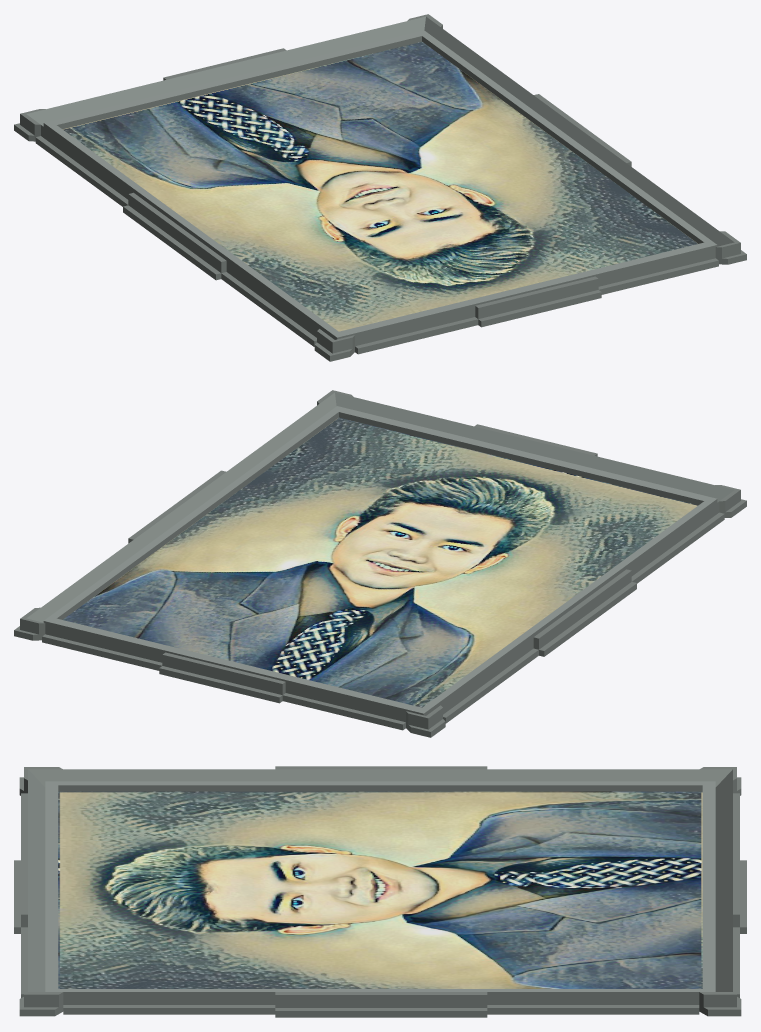
The model's file is Frame.glb.
The picture shows the model from 3 angles, top to bottom: view 1: azimuth 30°, elevation 25°; view 2: azimuth 150°, elevation 25°; view 3: azimuth 270°, elevation 25°; orthographic projection. The views are drawn at different scales.
Visible parts, largest first — view 1: Cube; view 2: Cube; view 3: Cube.
Boxes of the visible parts, box(x1,y1,x2,y2) form: Cube: box(14, 14, 746, 361); Cube: box(14, 390, 746, 737); Cube: box(14, 766, 746, 1017).
Size of the model in its own units: 7.88 by 0.3055 by 10.4.
3 materials, 1 textured.
